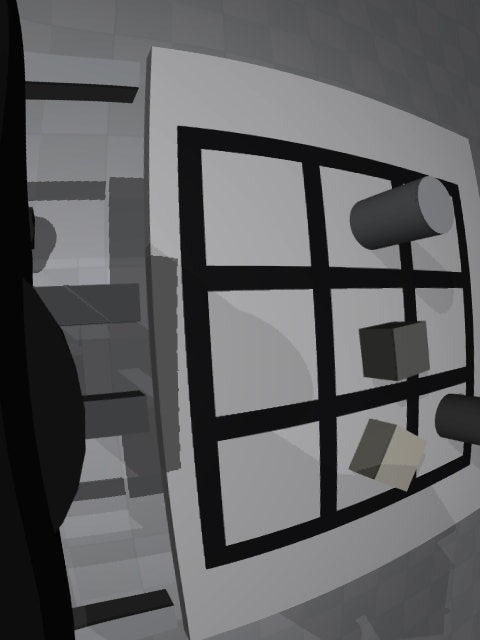can: (350, 176, 454, 250)
cube: (359, 321, 430, 381)
cylinder: (435, 394, 480, 445)
foam: (349, 419, 427, 492)
